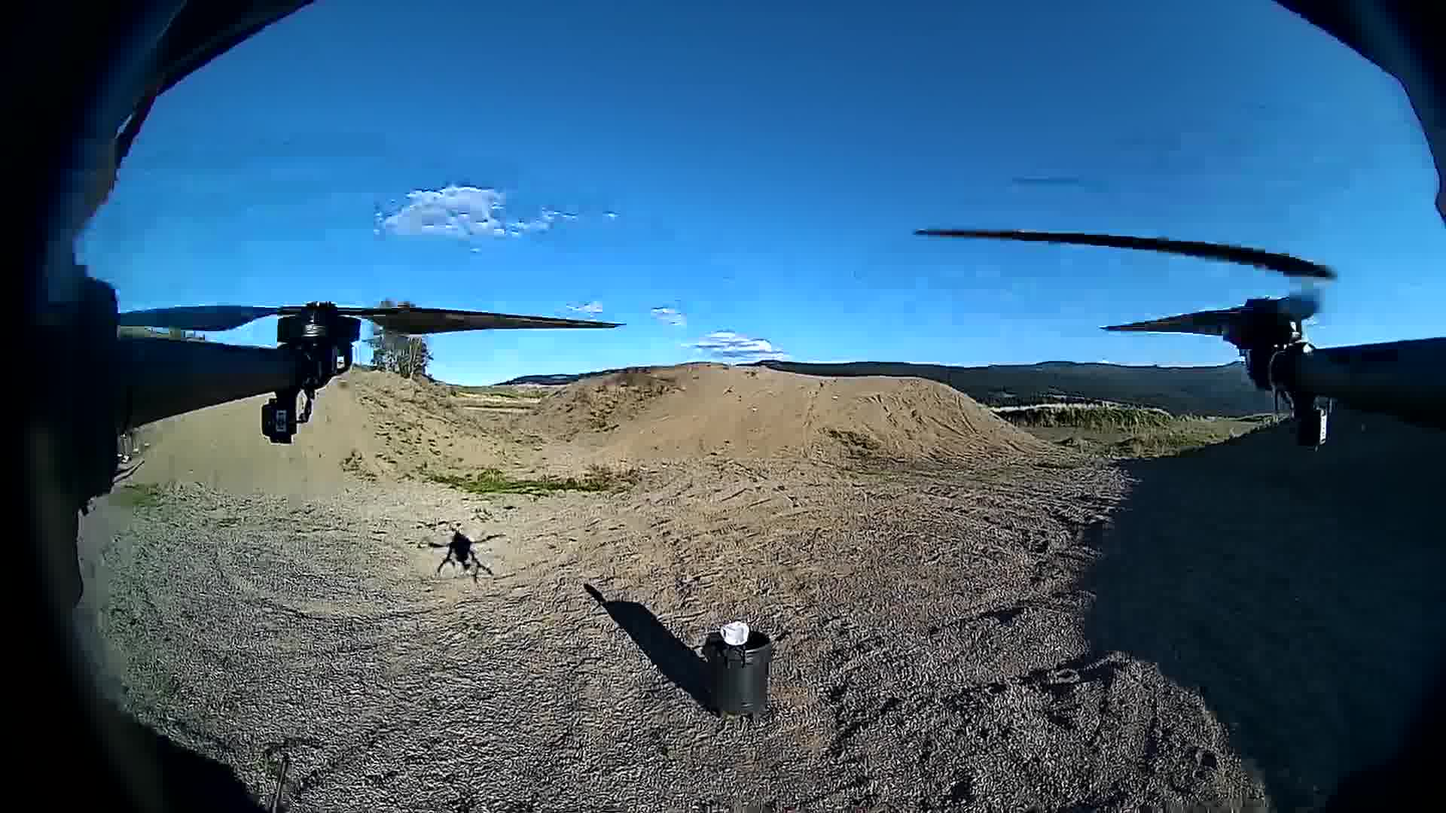Target: (720, 621, 752, 647)
